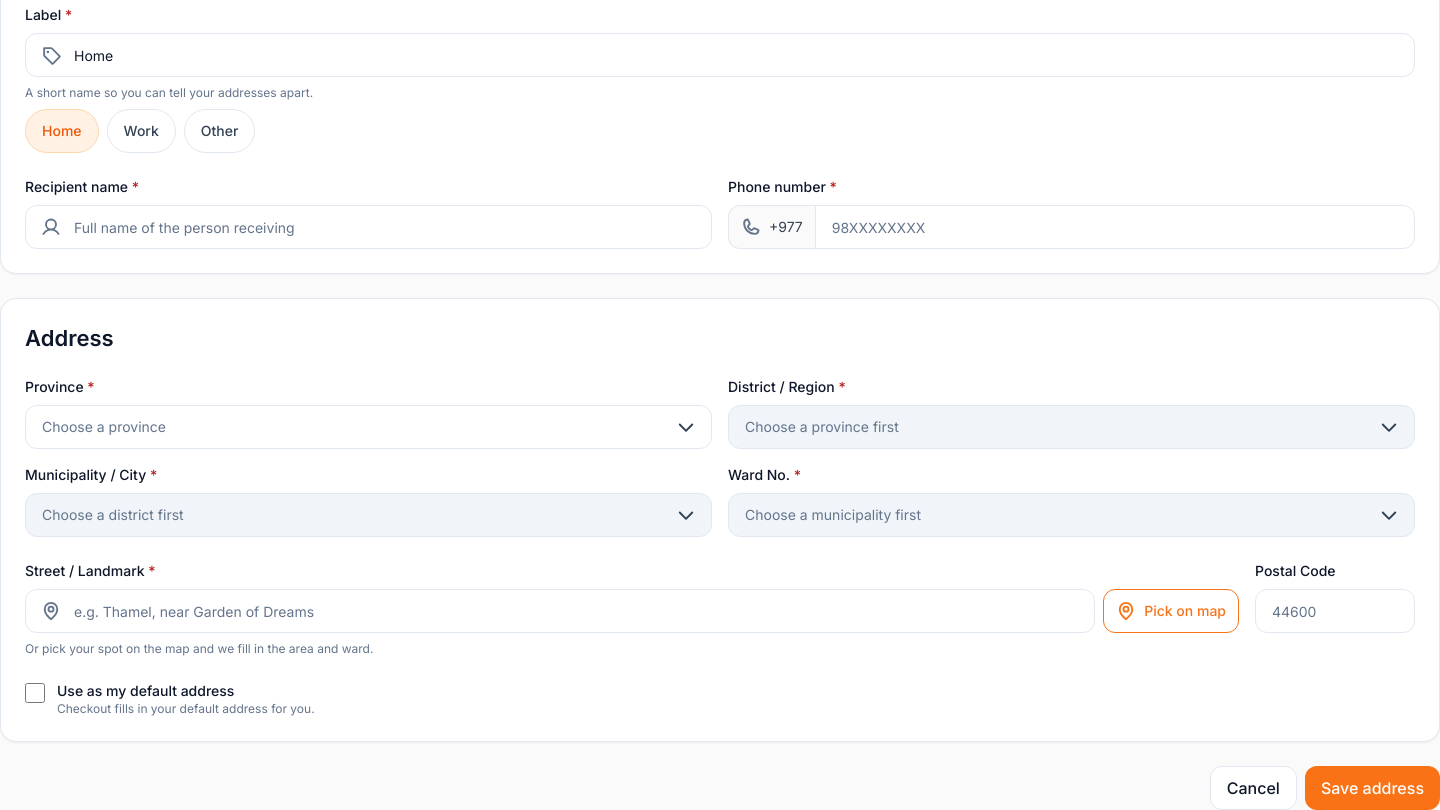
AddressForm › shows inline errors and does not submit an incomplete address
(page scrolled)
Click the button "Save address" at (1372, 788), box left=1305, top=766, right=1439, bottom=809
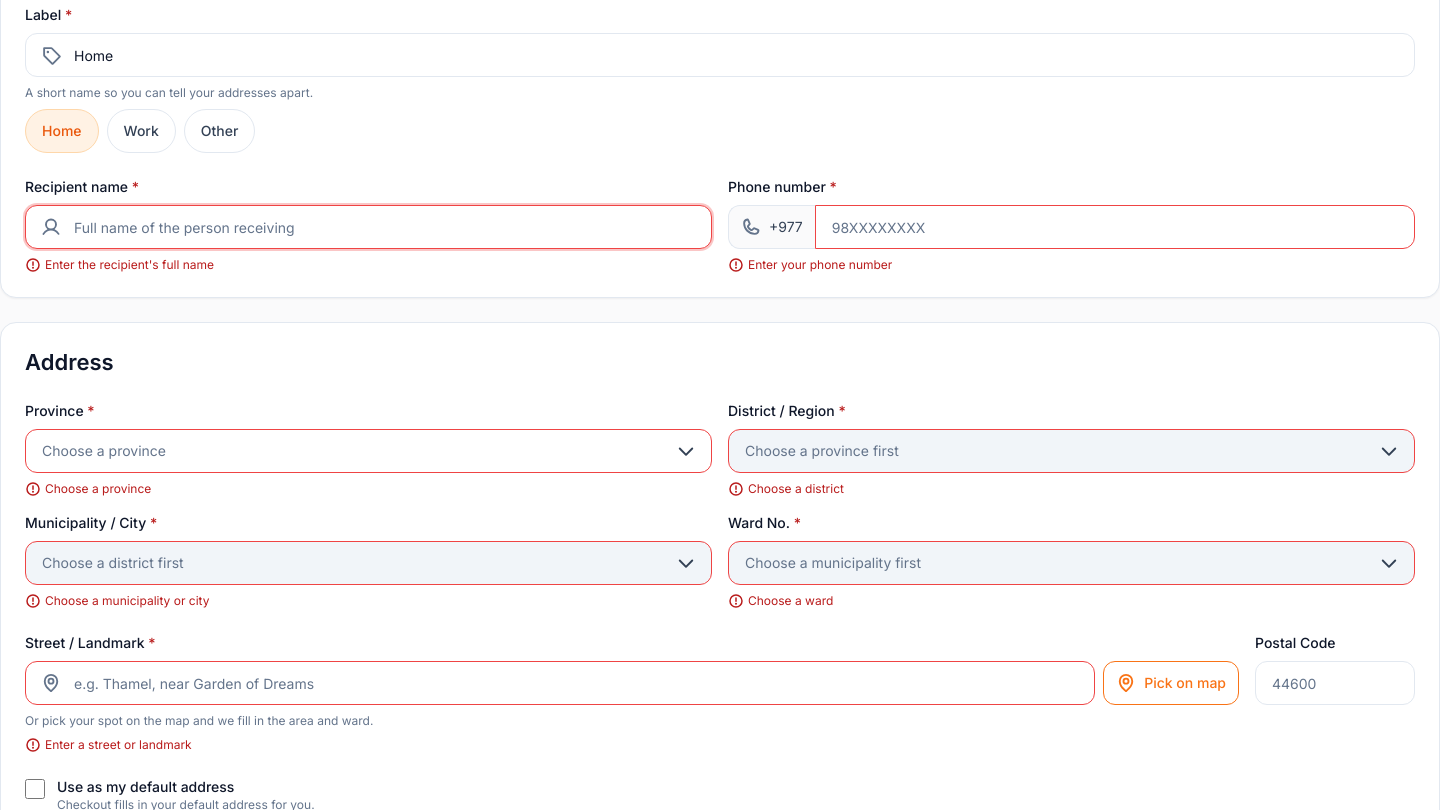
expect the text "Enter the recipient's full name" is shown: met, box left=25, top=257, right=214, bottom=273
